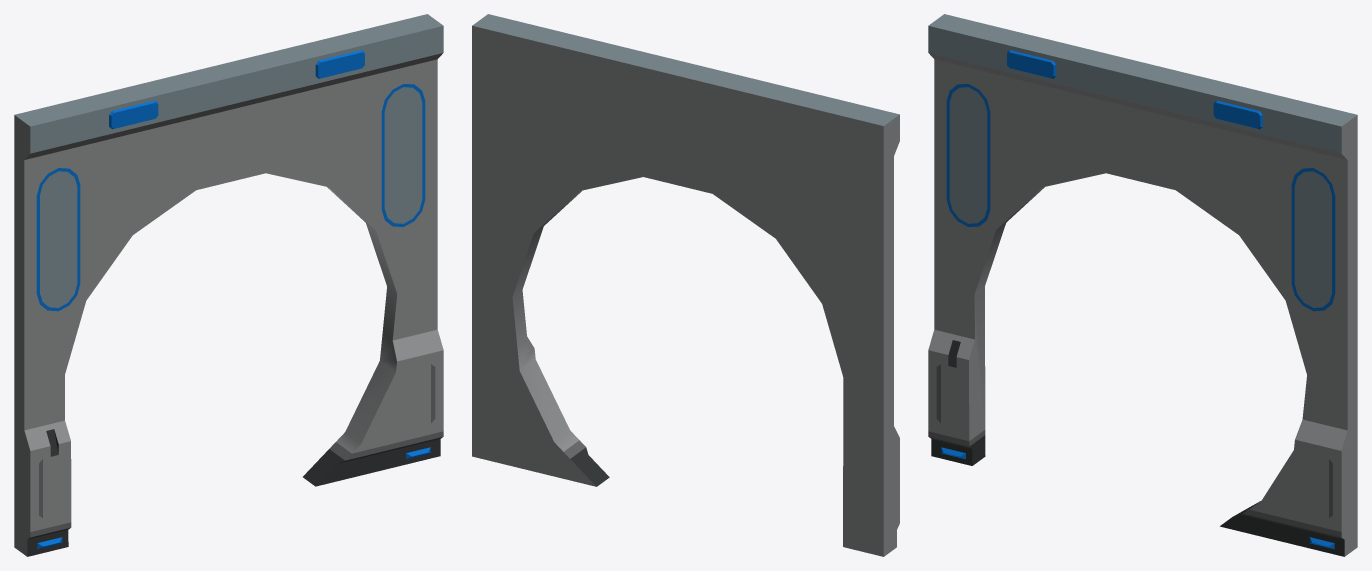
The model's file is Wall_type_B_068.fbx.
3 views of the same model, side by side, from view 1: azimuth 30°, elevation 25°; view 2: azimuth 150°, elevation 25°; view 3: azimuth 330°, elevation 25° (orthographic).
Parts seen in each view (by area): view 1: Wall_type_B_068; view 2: Wall_type_B_068; view 3: Wall_type_B_068.
Part boxes in pixels (left/top/right/bottom): Wall_type_B_068: left=14, top=14, right=443, bottom=556; Wall_type_B_068: left=472, top=14, right=899, bottom=556; Wall_type_B_068: left=928, top=14, right=1357, bottom=556.
Size of the model in its own units: 400 by 28.98 by 400.
